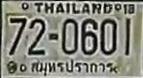0: (62, 18, 78, 54), (101, 18, 117, 54)
1: (124, 18, 130, 55)
2: (29, 18, 46, 55)
6: (81, 19, 97, 55)
7: (10, 18, 27, 55)
SPK: (29, 57, 115, 77)
